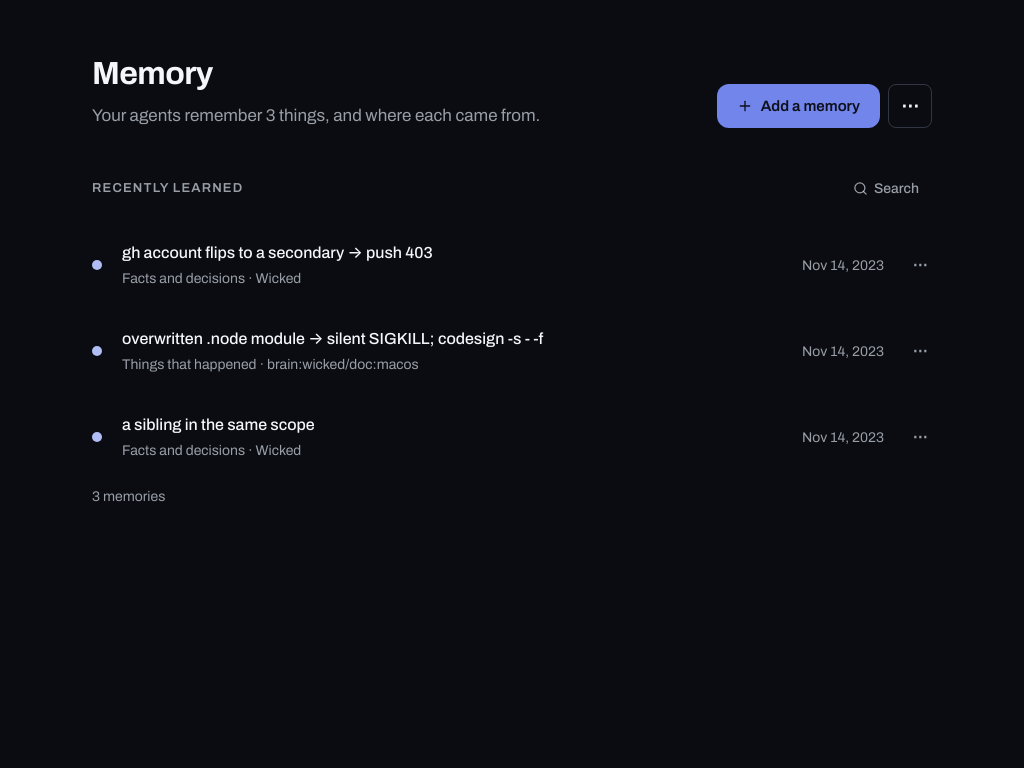
Test case: MemoryPage — Edit and Retire › Retire removes ONE memory by id; its scope sibling survives
The image size is (1024, 768).
Click the 1st button with test id "memory-actions-button": [920, 265] box [900, 245, 940, 285]
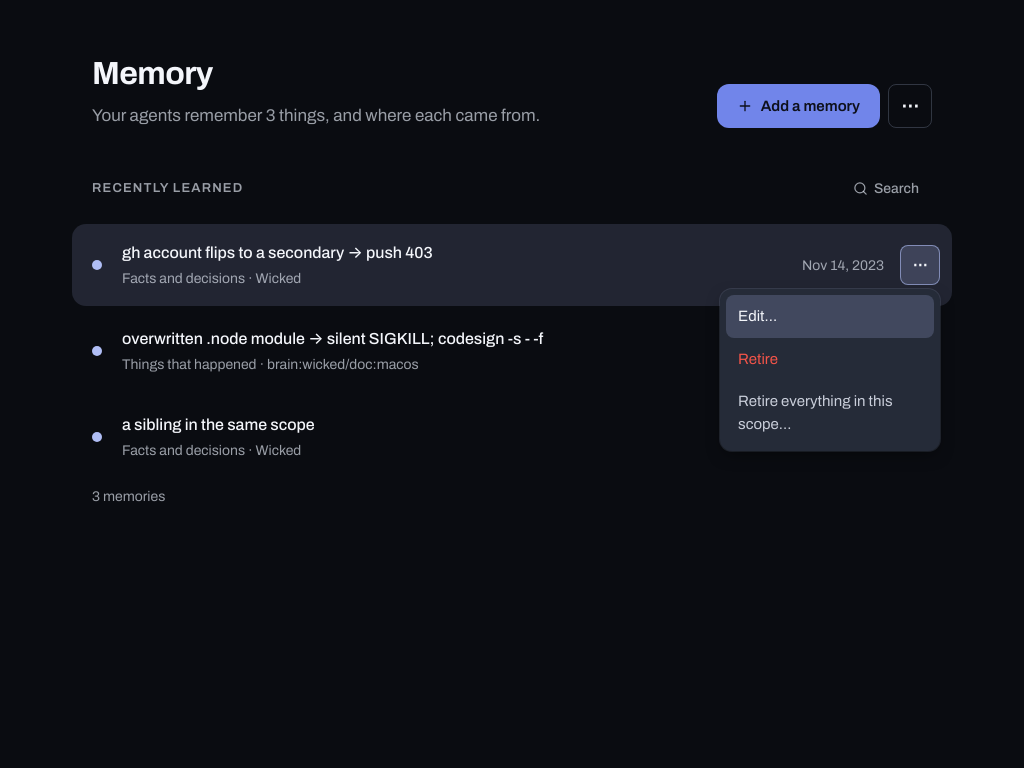
Click the menu item "Retire": [830, 359] box [726, 338, 934, 380]
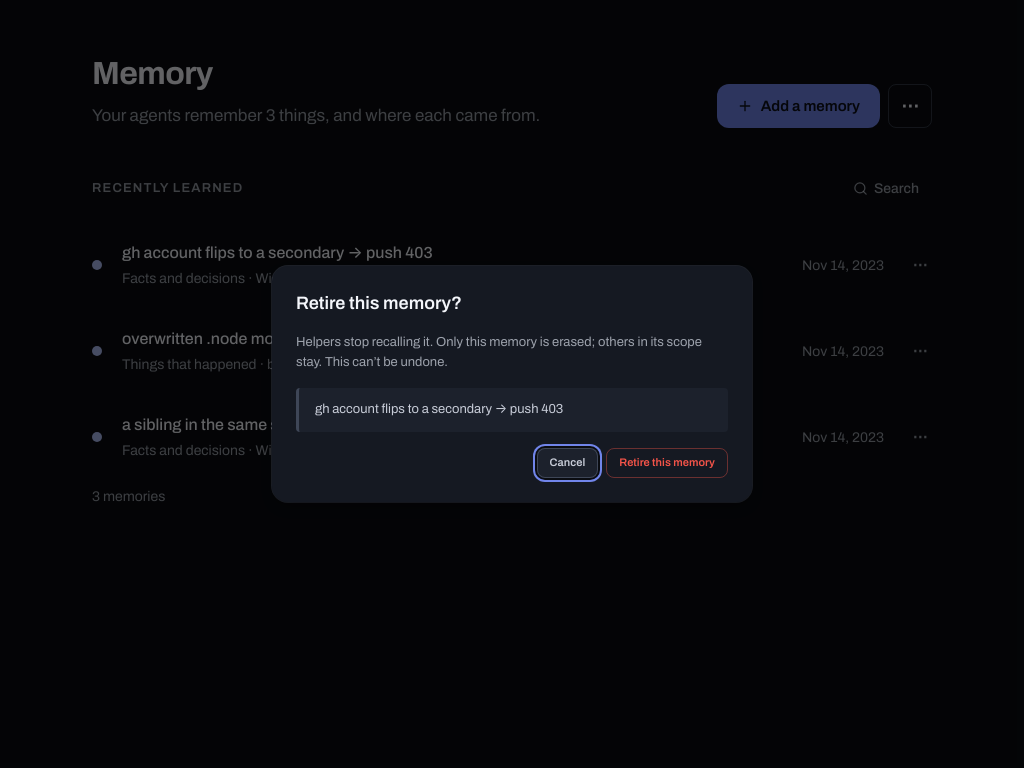
Check: the dialog with test id "memory-retire-dialog" shows "Only this memory is erased", box [296, 335, 702, 369]
Click the button with test id "memory-retire-confirm": [667, 463] box [606, 448, 728, 478]
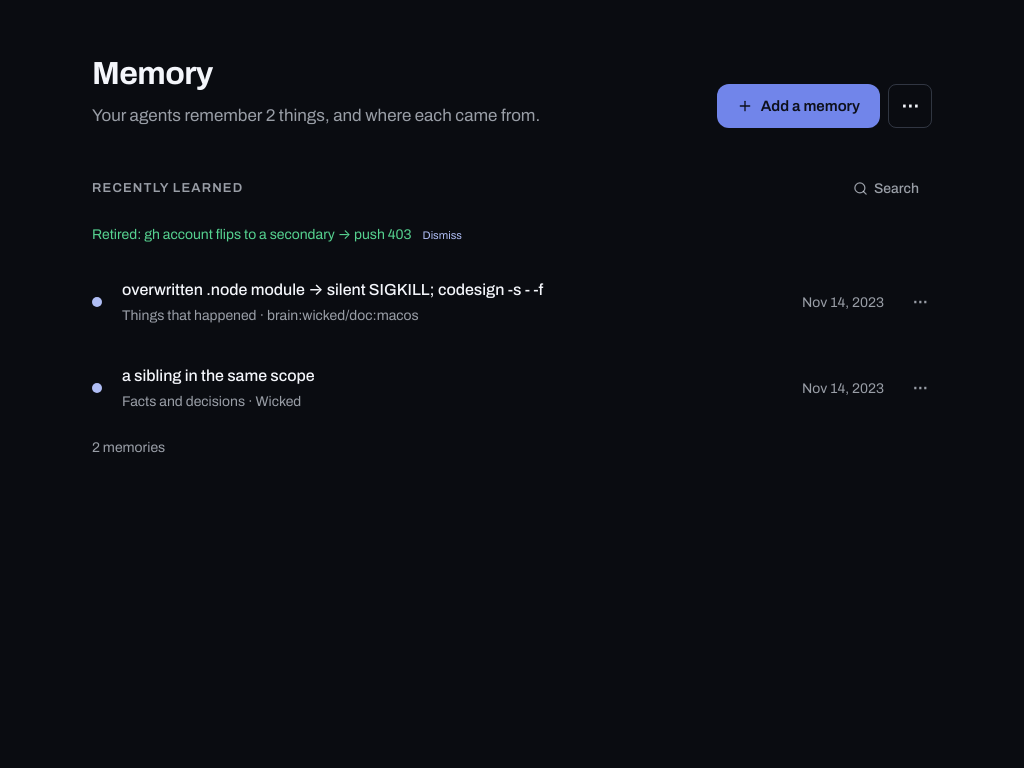
Check: the message with test id "memories-note" shows "Retired: gh account flips to a secondary → push 403", box [92, 227, 412, 242]
